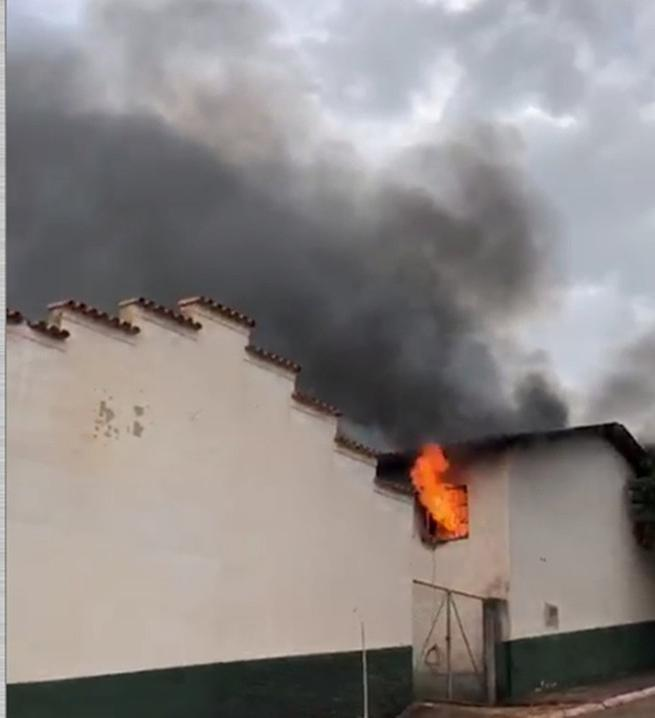Fire: (403, 429, 476, 542)
